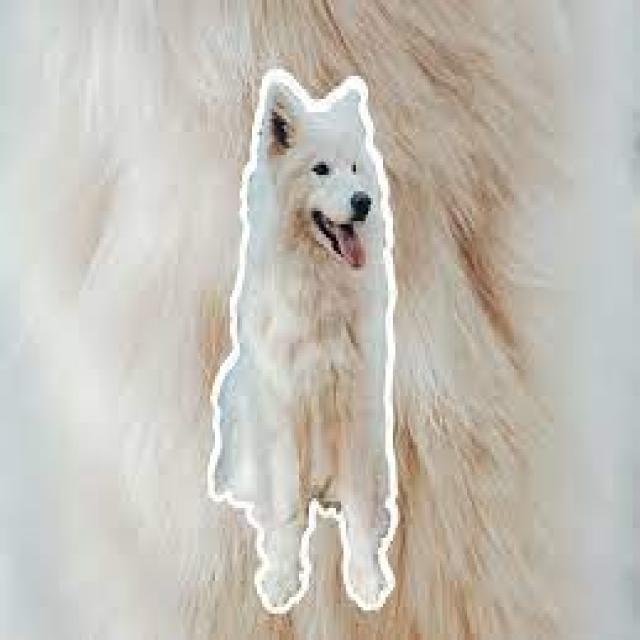dogs: (214, 78, 393, 608)
